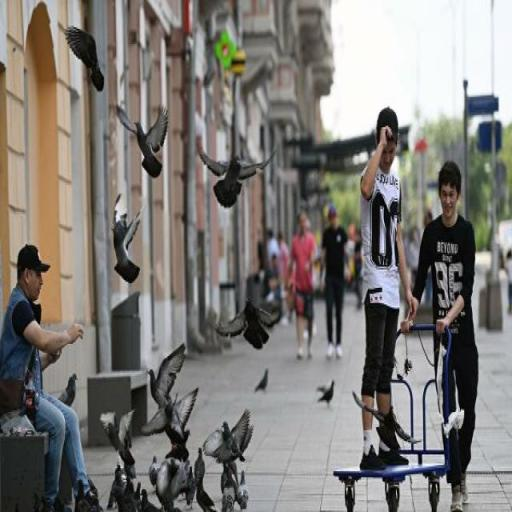person: (1, 234, 100, 512), (412, 161, 476, 512), (361, 104, 418, 472), (288, 213, 318, 360), (320, 206, 346, 360)
